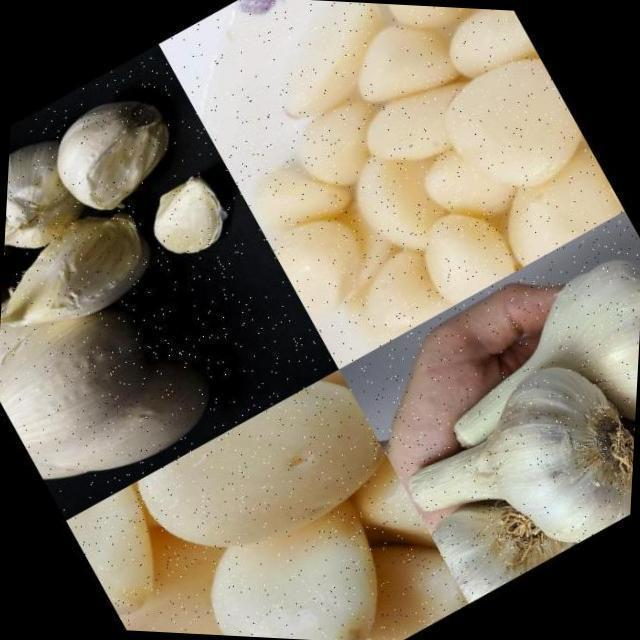garlic: (160, 0, 634, 383), (60, 356, 480, 640), (378, 330, 640, 610), (403, 218, 640, 518), (0, 231, 241, 521), (0, 189, 165, 358), (29, 72, 200, 235), (420, 453, 588, 609), (2, 125, 98, 282), (132, 161, 246, 273), (0, 159, 56, 363), (596, 362, 638, 507)
